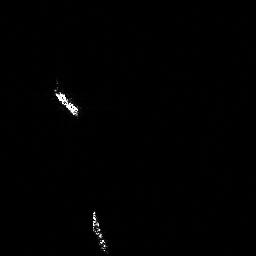ship: (87, 206, 113, 256), (50, 82, 82, 120)
